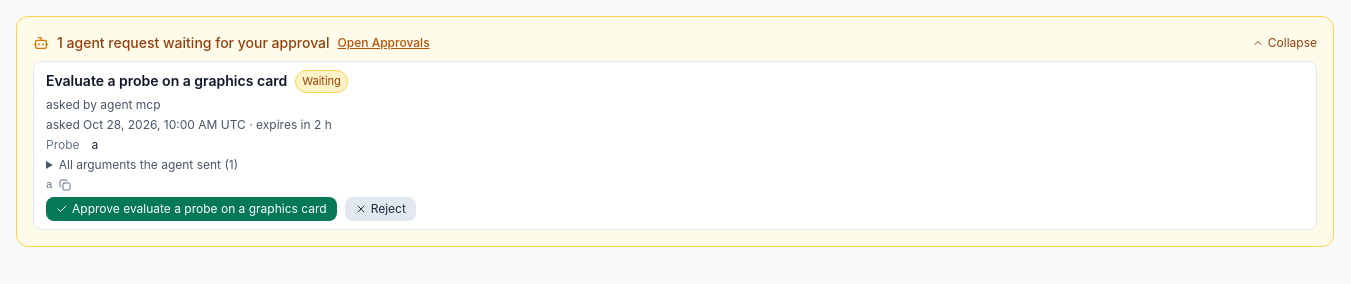
the approvals banner (§2.3) › an expired request says so inside the card
Click the button "Approve evaluate a probe on a graphics card" at (191,209), box x1=46 y1=197 x2=337 y2=221
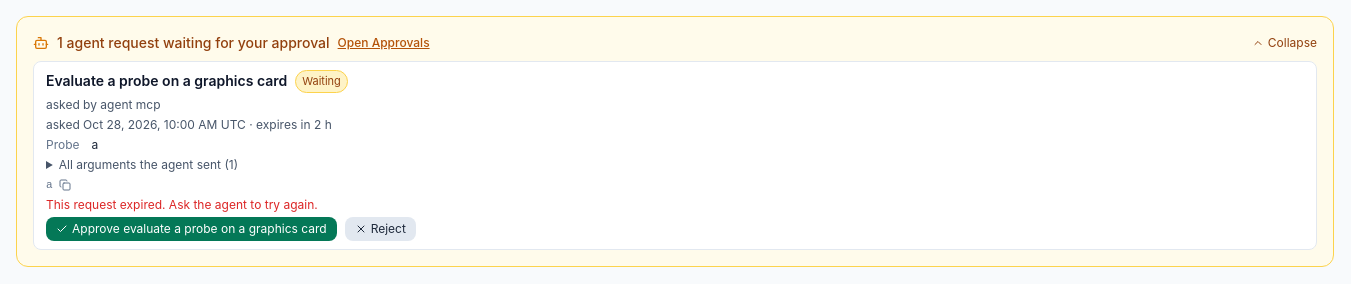
Now the message with test id "approval-error" reads "This request expired. Ask the agent to try again.", box x1=46 y1=197 x2=318 y2=212
